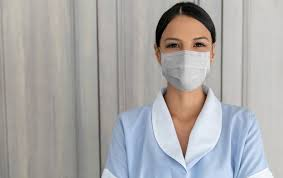mask: (152, 49, 221, 95)
social distancing: (144, 2, 253, 143)
